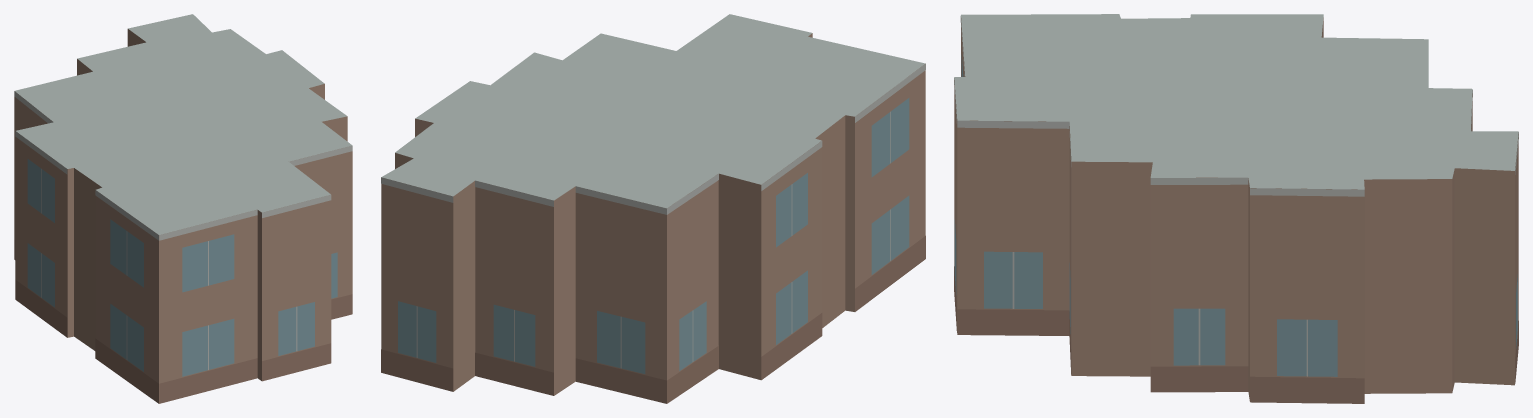
File: survey-upis-32485181.glb
The picture shows the model from 3 angles, left to right: view 1: azimuth 30°, elevation 25°; view 2: azimuth 150°, elevation 25°; view 3: azimuth 270°, elevation 25°; orthographic projection. The views are drawn at different scales.
Visible parts, largest first — view 1: survey-upis-32485181.tmp; view 2: survey-upis-32485181.tmp; view 3: survey-upis-32485181.tmp.
Boxes of the visible parts, bbox=[...] form: survey-upis-32485181.tmp: bbox=[14, 14, 352, 403]; survey-upis-32485181.tmp: bbox=[381, 14, 925, 403]; survey-upis-32485181.tmp: bbox=[954, 14, 1518, 403].
Size of the model in its own units: 12.83 by 7.3 by 17.43.
